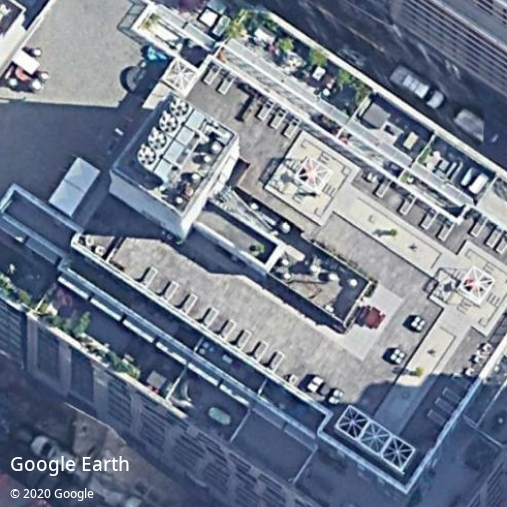Vent: (158, 114, 178, 133), (170, 98, 189, 117), (148, 131, 167, 150), (138, 146, 156, 166)
